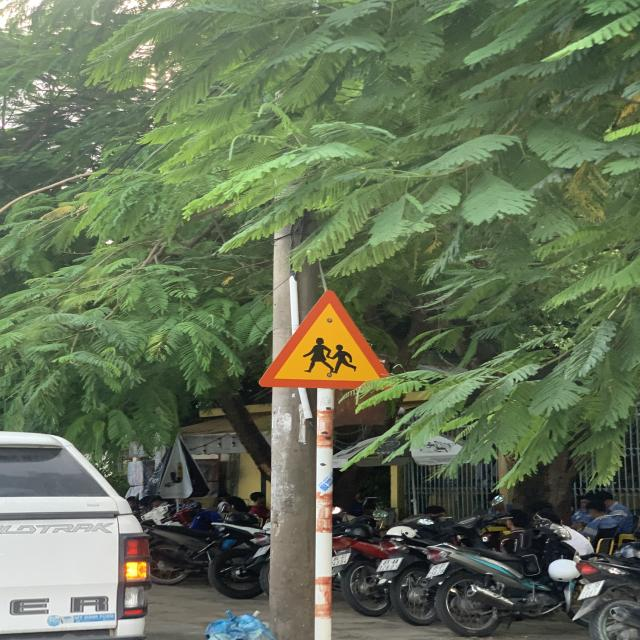Vong_Xuyen: (263, 292, 397, 387)
